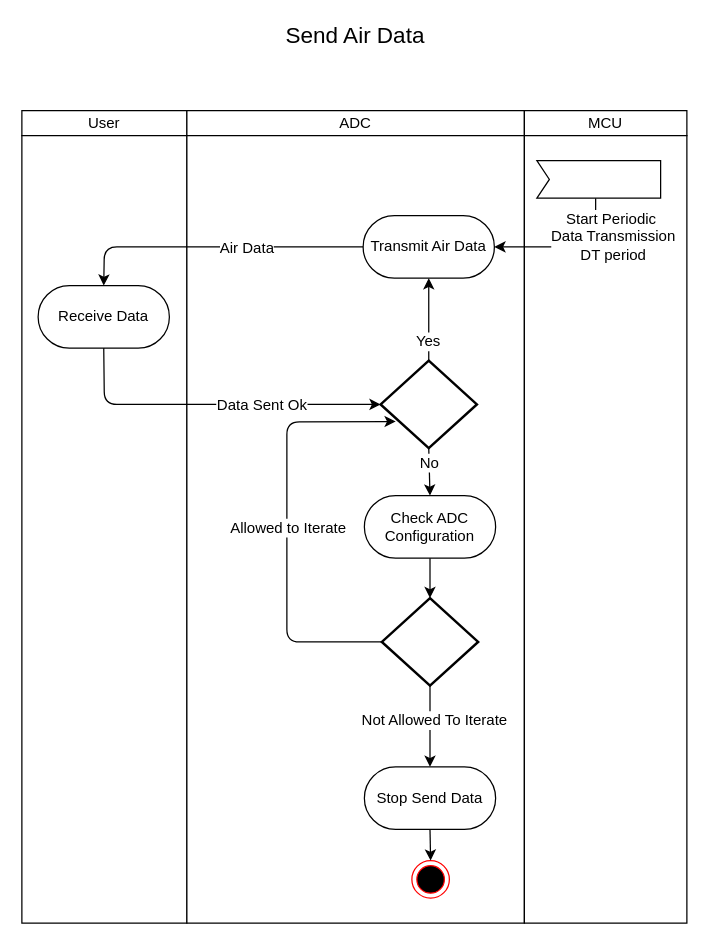
Image size: 709x945. Some labels were removed from this diagram. The shapes that lost their labels are listed below. From the top down, each one's centre as x and y in pixels, then its label:
At point (598, 178): "Power On".
At point (428, 404): "DT Elapsed".
At point (429, 641): "Continue".
